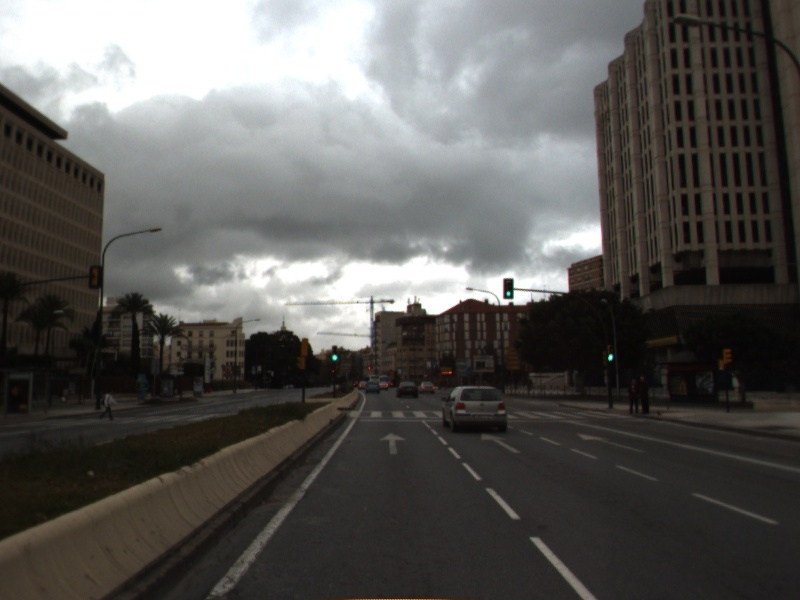STRAIGHT: (575, 430, 649, 455), (478, 430, 523, 455), (377, 430, 409, 456)
